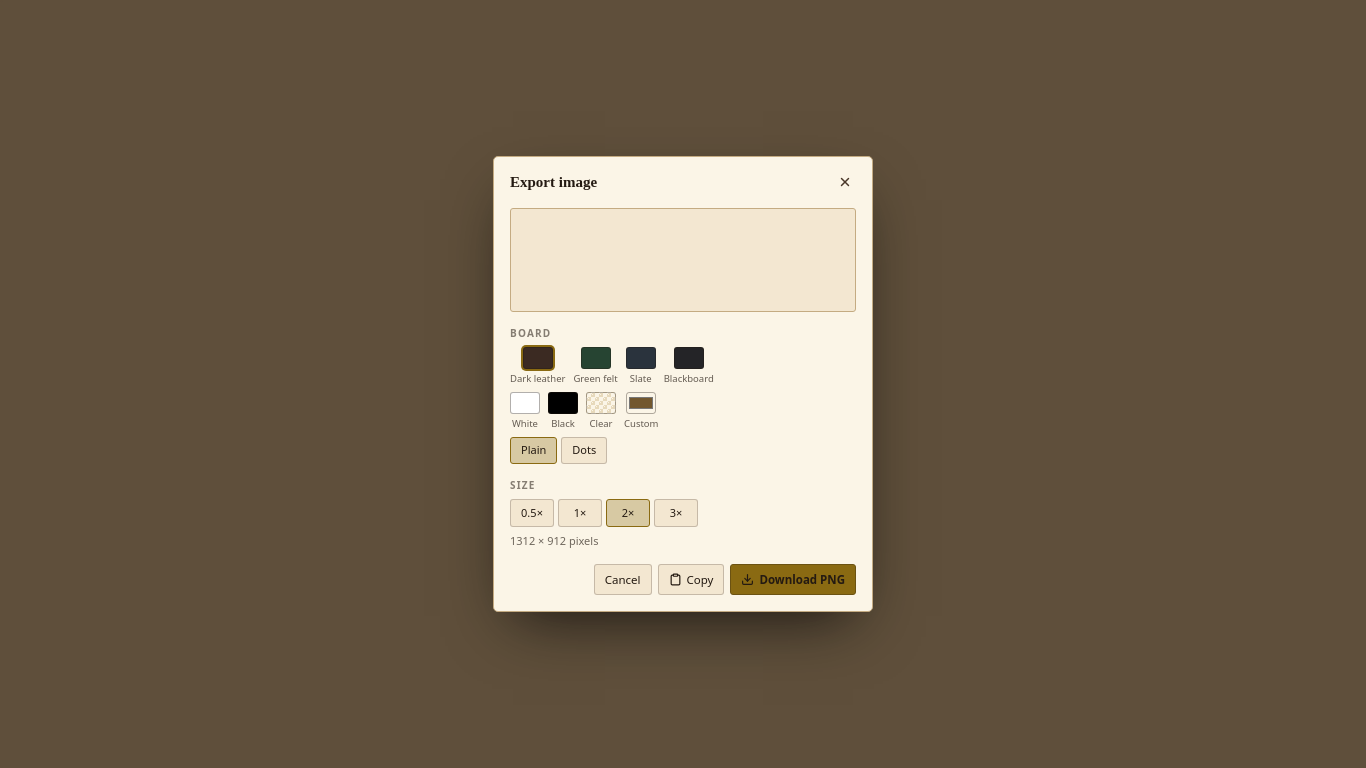
Test case: the export dialog › reports a refused render rather than failing quietly
The image size is (1366, 768).
Step 1. Click the button with test id "export-download" → (793, 579), box left=730, top=564, right=856, bottom=595
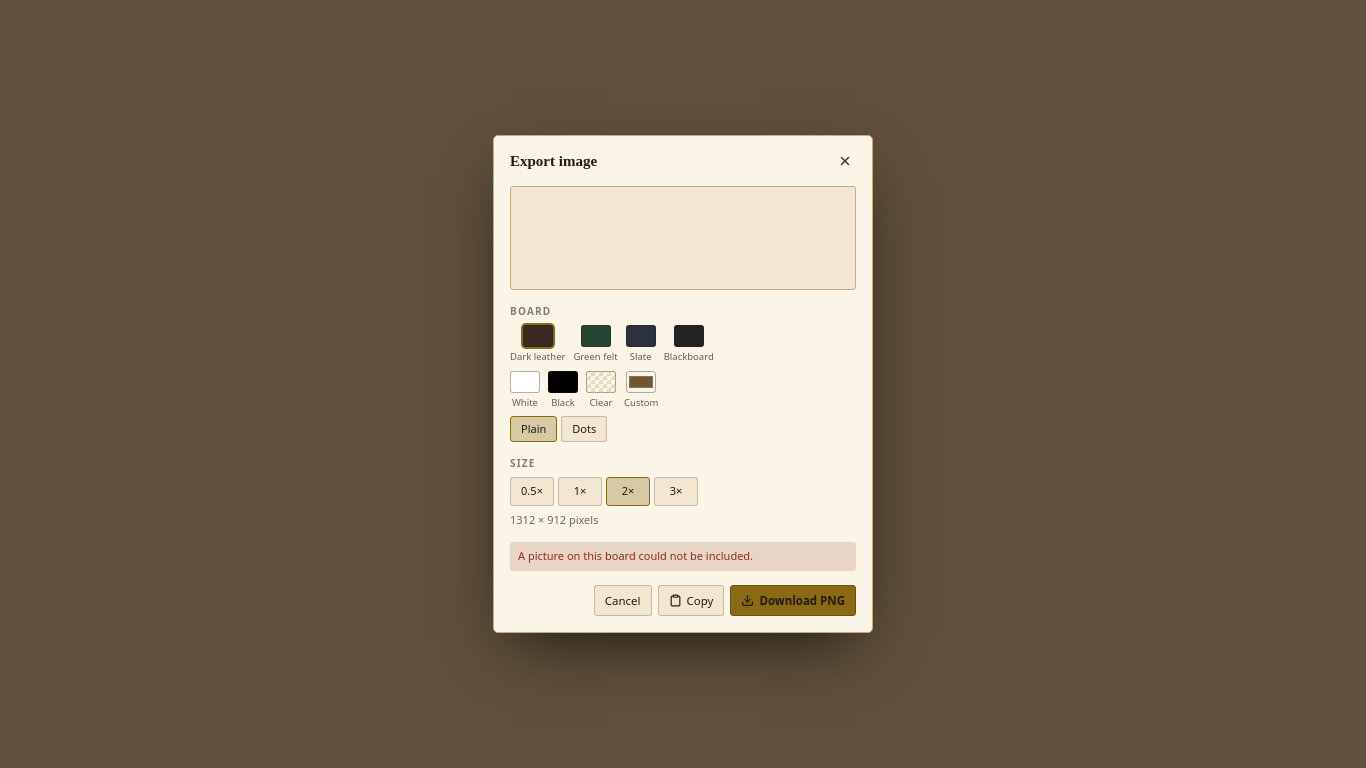
Now the message shows "could not be included", box left=518, top=548, right=753, bottom=563
